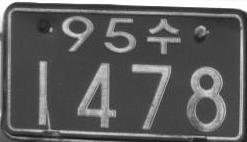1: (23, 60, 60, 125)
4: (78, 61, 117, 127)
5: (104, 17, 137, 54)
7: (131, 62, 171, 132)
8: (184, 65, 227, 133)
9: (61, 15, 94, 52)
수: (146, 17, 182, 55)
